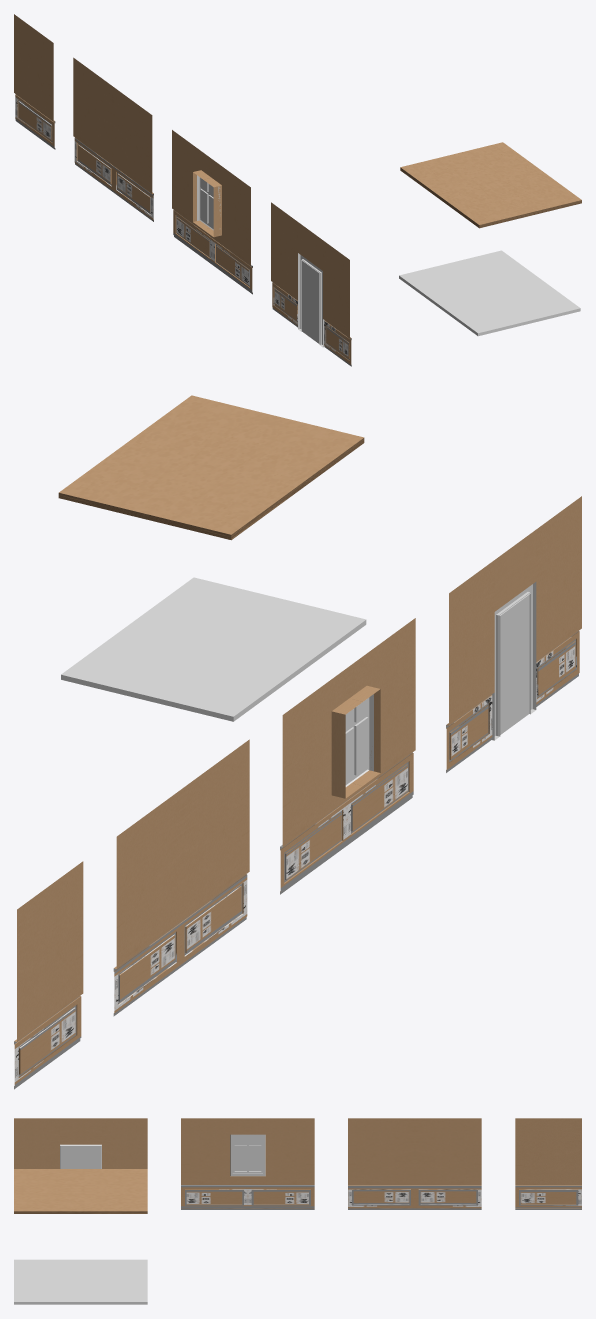
The model's file is modulerkityeni.fbx.
The picture shows the model from 3 angles, top to bottom: view 1: azimuth 30°, elevation 25°; view 2: azimuth 150°, elevation 25°; view 3: azimuth 270°, elevation 25°; orthographic projection. The views are drawn at different scales.
Parts seen in each view (by area): view 1: roof, floor, Cube.004, Cube.005, Cube.001, Cube.008, Plane, Cube.006; view 2: roof, floor, Cube.004, Cube.005, Cube.001, Cube.008, Plane, Cube.006; view 3: Cube.004, Cube.005, Cube.001, floor, Cube.008, roof, Cube.006, Plane.
Part boxes in pixels (<box>): roof: <box>400,142,581,228</box>; floor: <box>399,250,580,336</box>; Cube.004: <box>73,57,153,221</box>; Cube.005: <box>172,130,252,294</box>; Cube.001: <box>271,202,351,366</box>; Cube.008: <box>14,14,55,149</box>; Plane: <box>301,259,321,344</box>; Cube.006: <box>197,175,220,230</box>; roof: <box>58,395,364,540</box>; floor: <box>61,577,366,721</box>; Cube.004: <box>113,739,249,1016</box>; Cube.005: <box>280,618,415,894</box>; Cube.001: <box>446,496,581,772</box>; Cube.008: <box>14,861,83,1089</box>; Plane: <box>496,592,530,736</box>; Cube.006: <box>345,694,373,786</box>; Cube.004: <box>348,1118,481,1209</box>; Cube.005: <box>181,1118,314,1209</box>; Cube.001: <box>14,1118,147,1168</box>; floor: <box>14,1259,147,1304</box>; Cube.008: <box>515,1118,581,1209</box>; roof: <box>14,1169,147,1213</box>; Cube.006: <box>230,1134,265,1176</box>; Plane: <box>65,1149,95,1168</box>.
Bounding box in the file's own units: 702 × 310 × 1700.
